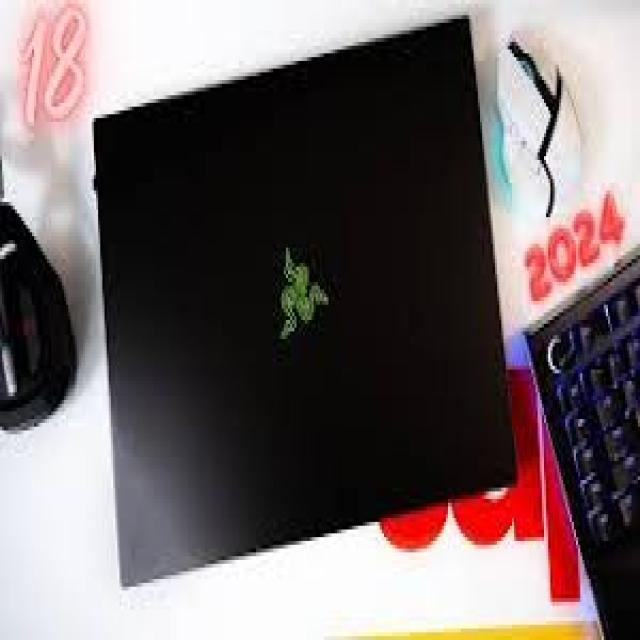laptop: (90, 4, 516, 586)
